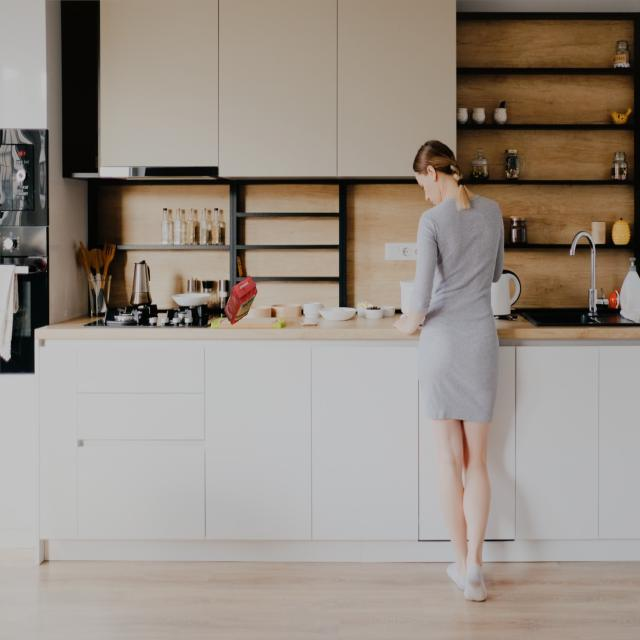mate bag: (225, 277, 256, 322)
